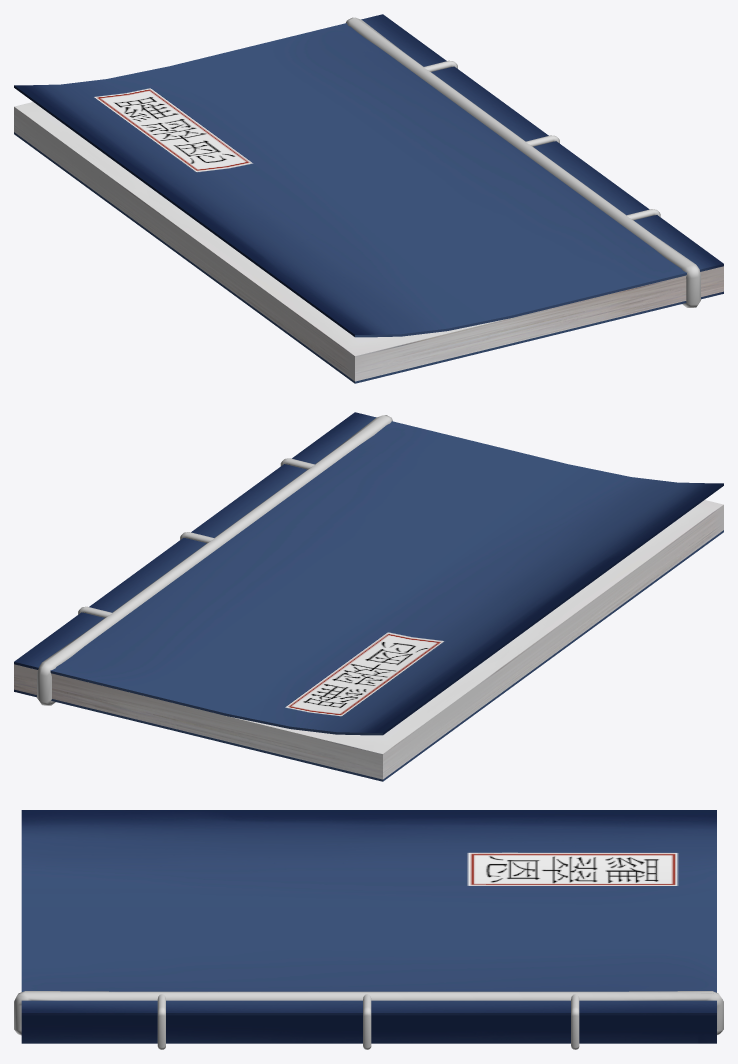
File: prop_modelling_paper_book.glb
3 views of the same model, one above another, from view 1: azimuth 30°, elevation 25°; view 2: azimuth 150°, elevation 25°; view 3: azimuth 270°, elevation 25° (orthographic).
Parts seen in each view (by area): view 1: Object_2; view 2: Object_2; view 3: Object_2.
Part boxes in pixels (x1=…): Object_2: x1=14, y1=14, x2=723, y2=383; Object_2: x1=14, y1=412, x2=723, y2=781; Object_2: x1=14, y1=810, x2=723, y2=1049.
Bounding box in the file's own units: 5.34 × 0.7704 × 8.61.
Materials: 1 (1 with a texture image).
